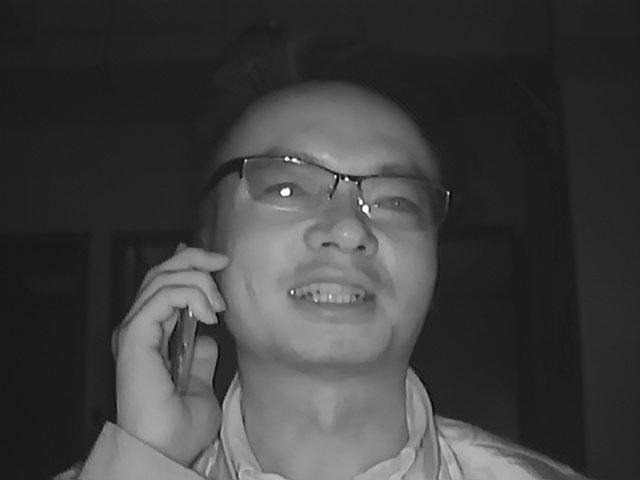hand: (105, 240, 234, 443)
